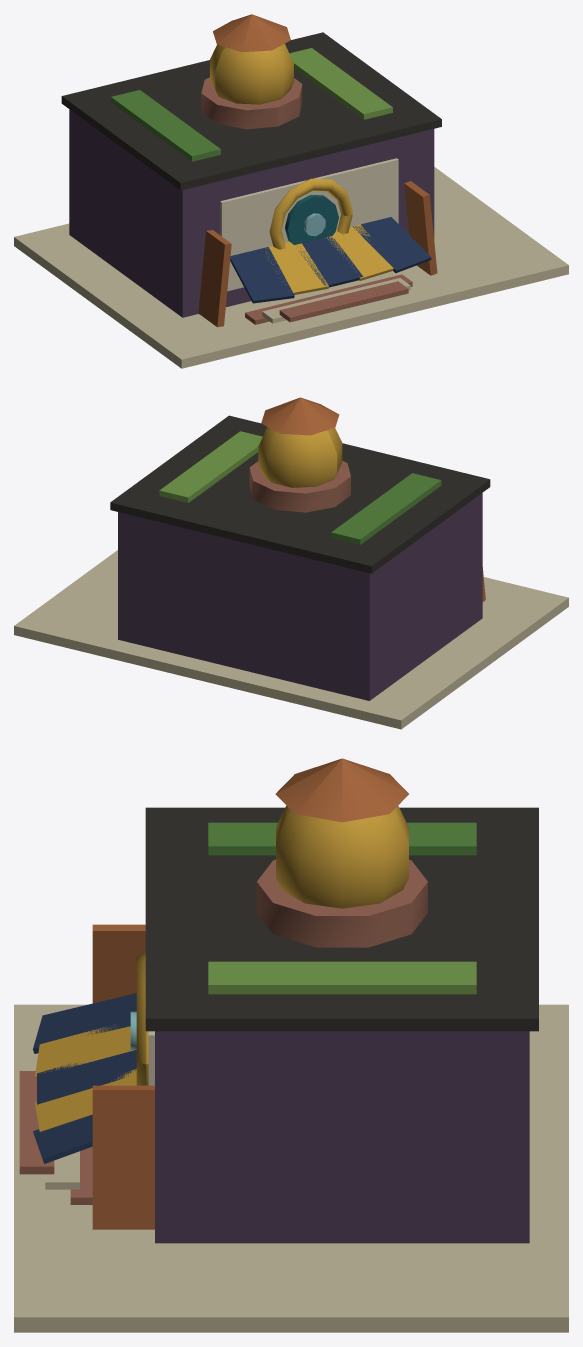
File: b15-lantern-cinema-v2-lod0.glb
3 views of the same model, one above another, from view 1: azimuth 30°, elevation 25°; view 2: azimuth 150°, elevation 25°; view 3: azimuth 270°, elevation 25° (orthographic). The views are drawn at different scales.
Parts seen in each view (by area): view 1: MESH_B15_LANTERN_CINEMA; view 2: MESH_B15_LANTERN_CINEMA; view 3: MESH_B15_LANTERN_CINEMA.
Boxes of the visible parts, bbox=[...] form: MESH_B15_LANTERN_CINEMA: bbox=[14, 14, 568, 368]; MESH_B15_LANTERN_CINEMA: bbox=[14, 397, 568, 729]; MESH_B15_LANTERN_CINEMA: bbox=[14, 758, 568, 1332].
Bounding box in the file's own units: 16 × 9.5 × 12.
